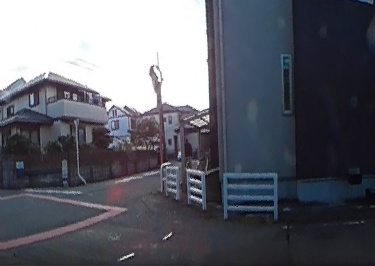person: (184, 136, 191, 161)
